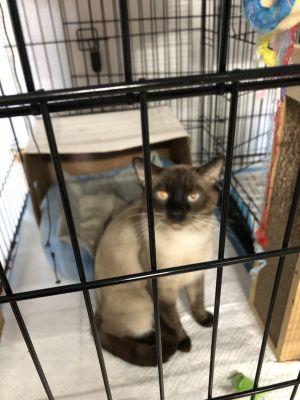siamese: (132, 146, 227, 243)
